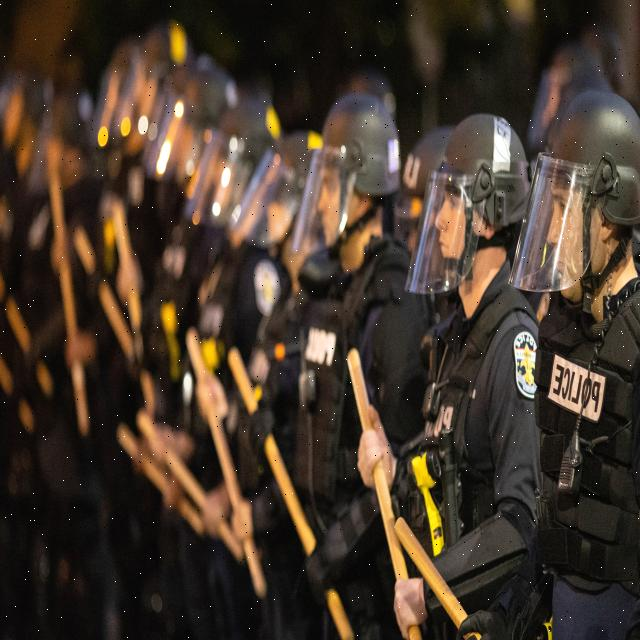police: (276, 85, 428, 640), (402, 103, 544, 640), (538, 59, 640, 640)
